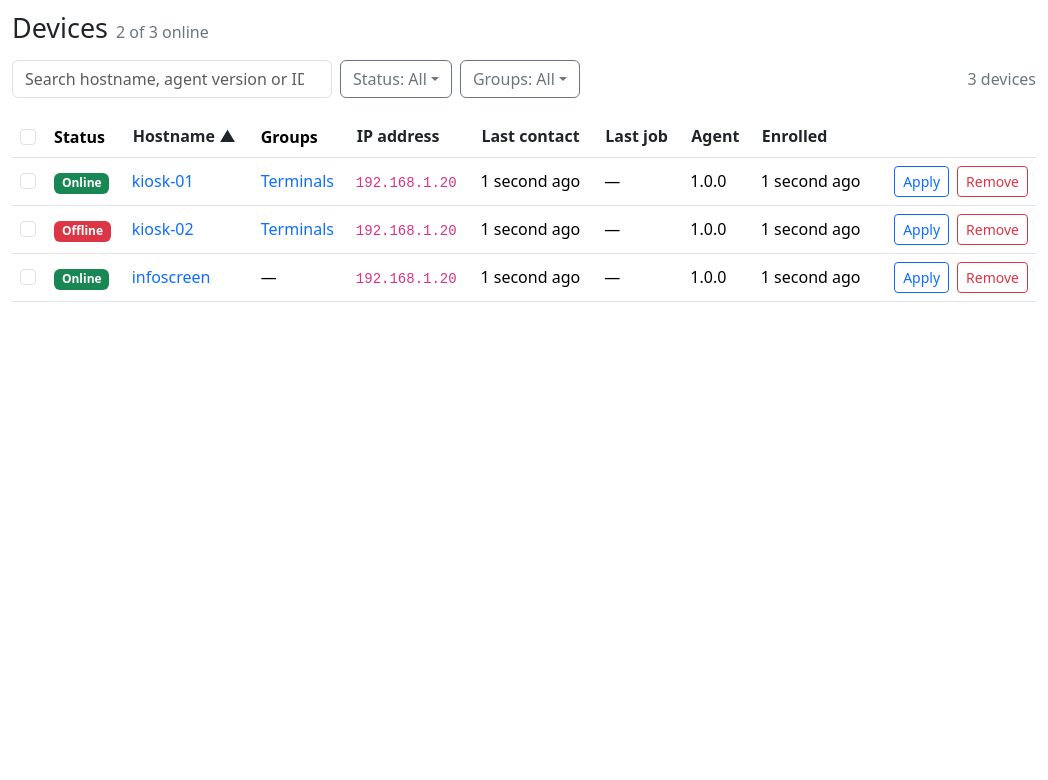
Test: Devices at scale › bulk-adds the selected devices to a group with one success toast
This screenshot has width=1048, height=780.
Check: the link "kiosk-01" is shown, box x1=132 y1=170 x2=194 y2=192
Click the checkbox named "Select kiosk-01".
click(28, 181)  # box x1=20 y1=173 x2=36 y2=189
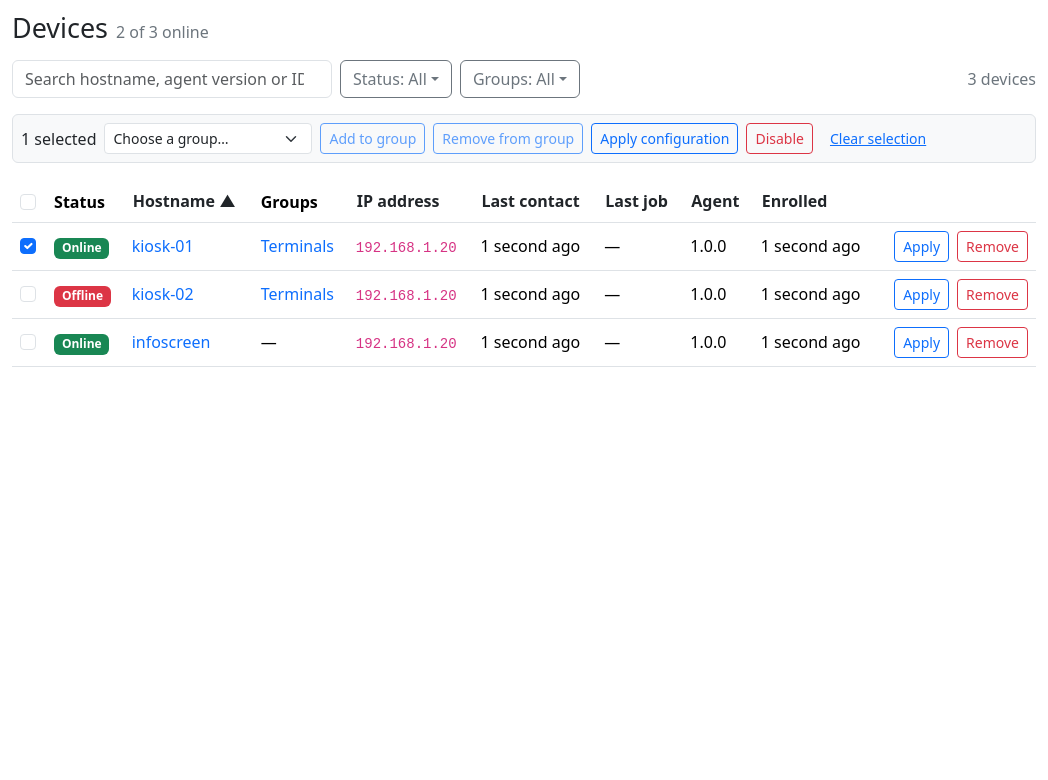
Click the checkbox named "Select kiosk-02".
click(28, 294)  # box x1=20 y1=286 x2=36 y2=302
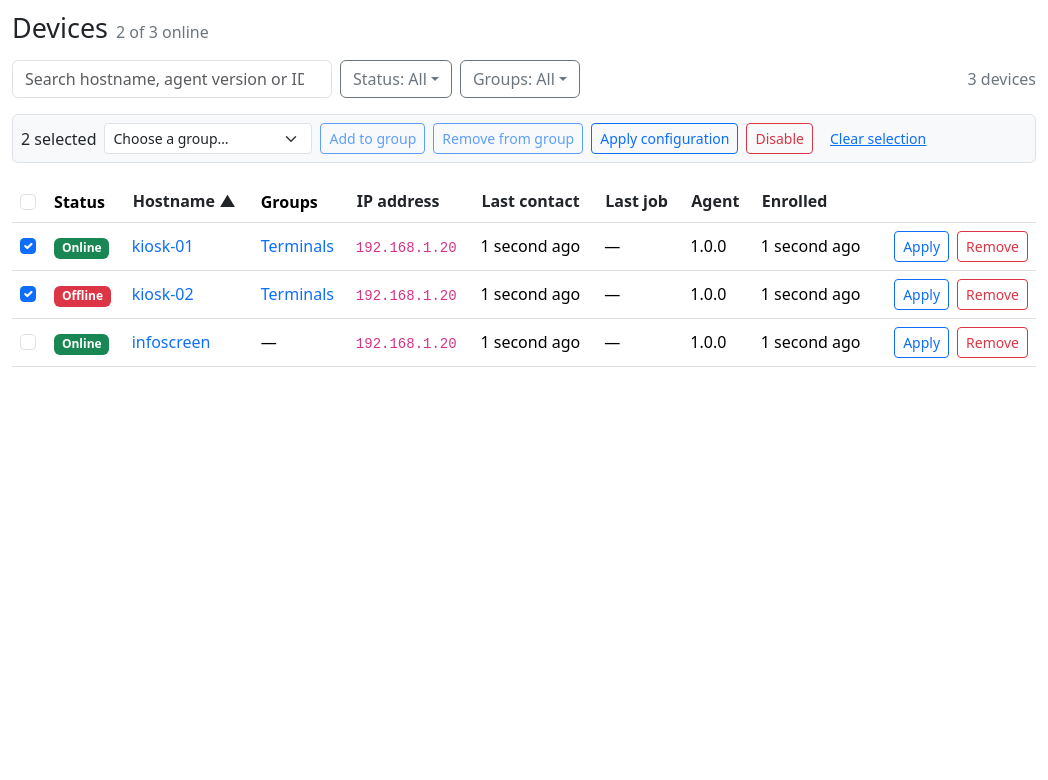
Check: the text "2 selected" is shown, box x1=21 y1=127 x2=96 y2=151
Select "Terminals" in the dropdown named "Group for bulk action" at x=208, y=139, box x1=104 y1=123 x2=312 y2=154
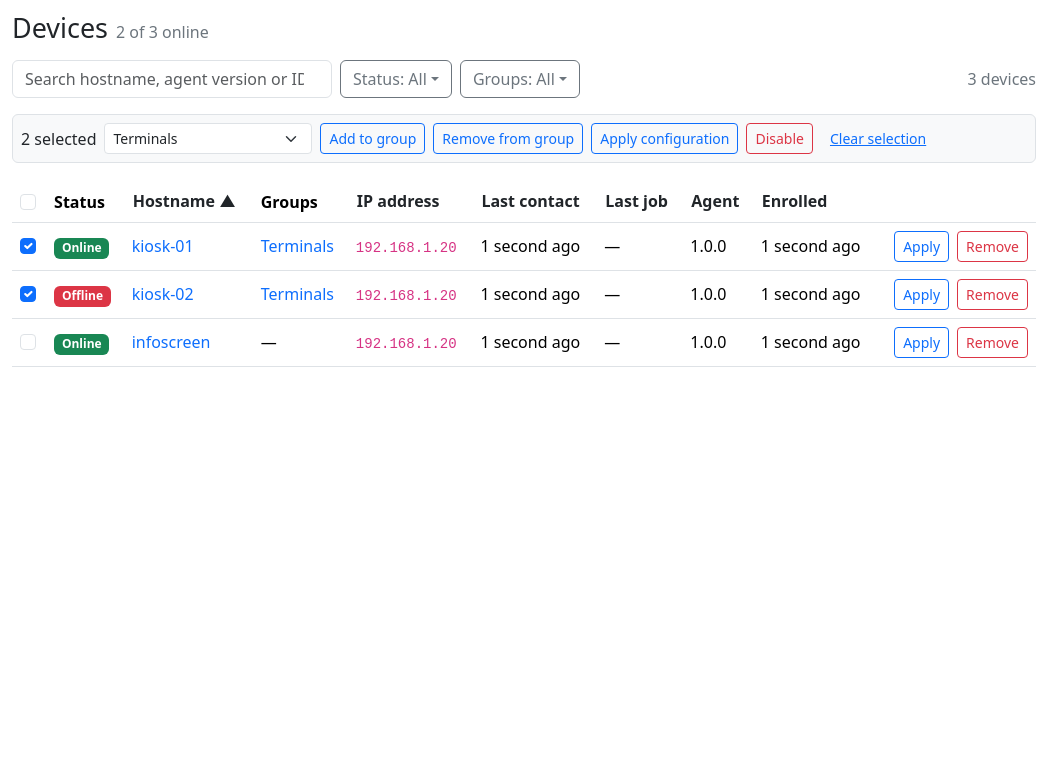
Click the button "Add to group".
click(373, 139)  # box x1=320 y1=123 x2=425 y2=154
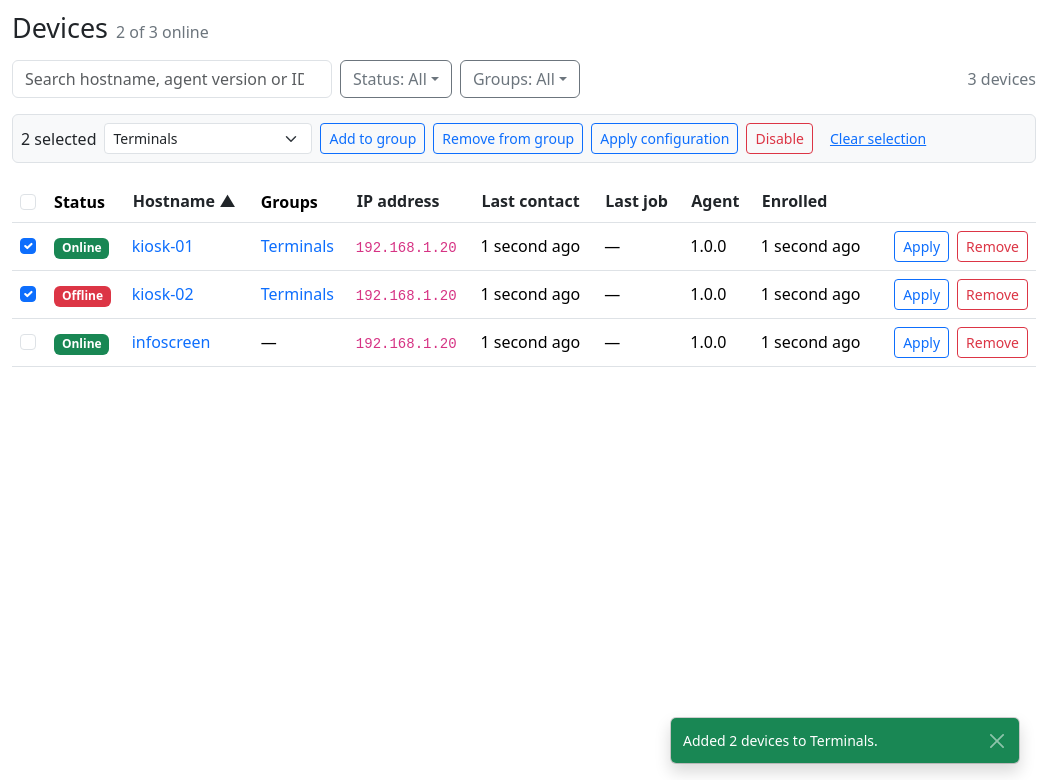
Check: the text "Added 2 devices to Terminals." is shown, box x1=683 y1=730 x2=878 y2=751
